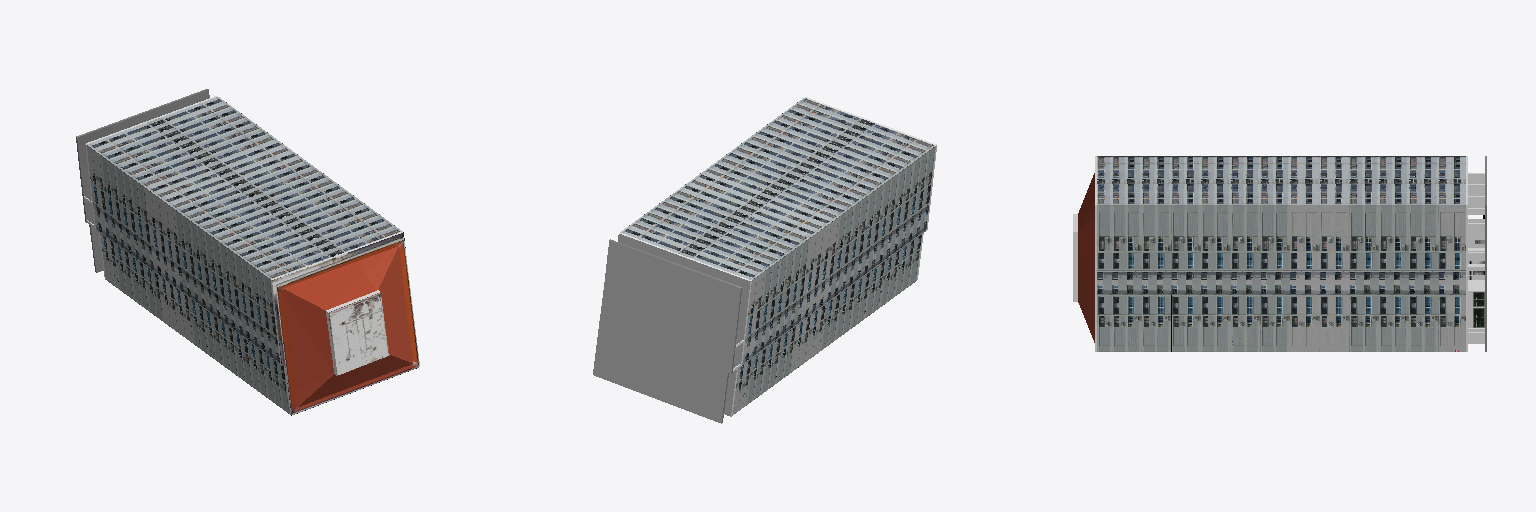
The picture shows the model from 3 angles: view 1: azimuth 30°, elevation 25°; view 2: azimuth 150°, elevation 25°; view 3: azimuth 270°, elevation 25°; orthographic projection.
Parts seen in each view (by area): view 1: polygon.856; view 2: polygon.856; view 3: polygon.856.
Part boxes in pixels (bbox=[...]): polygon.856: bbox=[76, 89, 419, 415]; polygon.856: bbox=[593, 97, 936, 423]; polygon.856: bbox=[1073, 156, 1486, 351].
Bounding box in the file's own units: 33.12 × 32.23 × 77.54.
Materials: 1 (1 with a texture image).